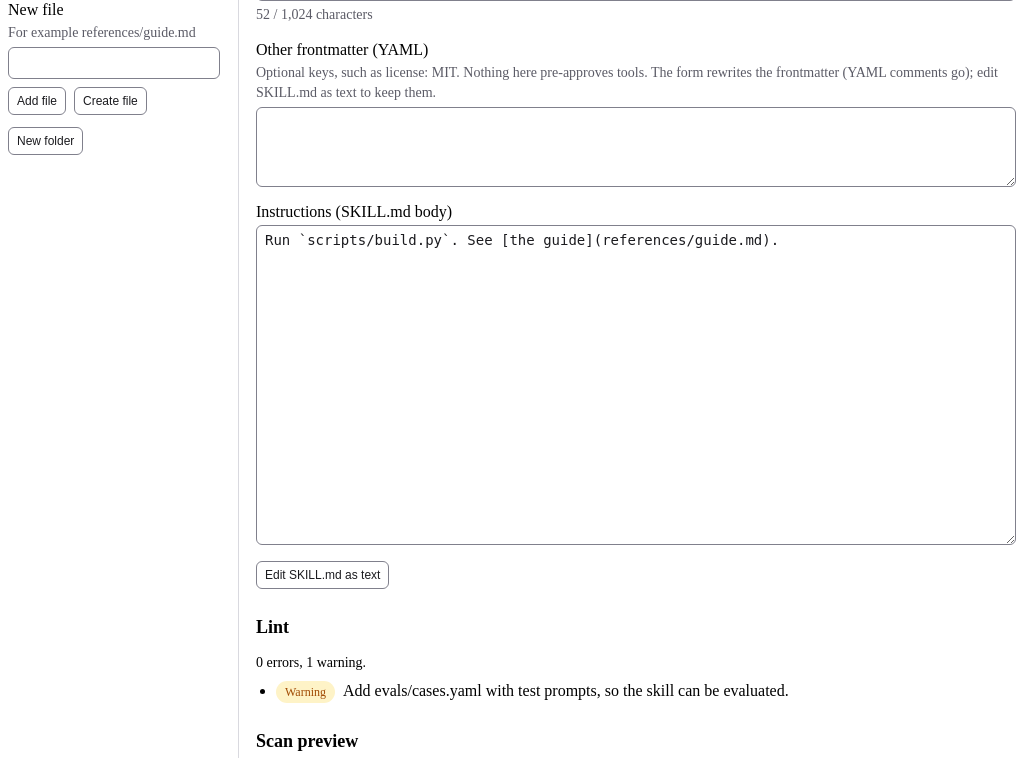
Workbench editor: lint, meter and live scan (ac-2) › stops autosave on a stale revision and says who changed the draft
(page scrolled)
Step 1. Replace the text in the text box labelled "Instructions (SKILL.md body)" with "Mine." → (636, 384), box [256,224,1016,544]
(page scrolled)
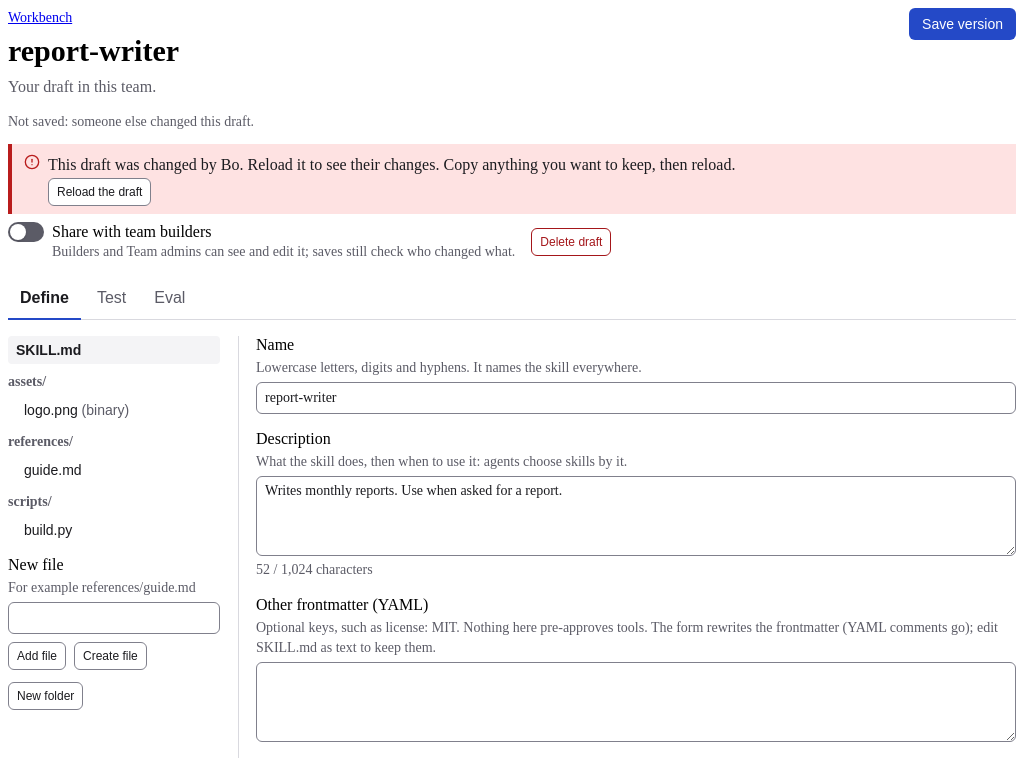
Result: the text "changed by Bo" is shown at [48,156,440,172]
Result: the text "Not saved: someone else changed this draft." is shown at [8,114,254,128]
Result: the button "Reload the draft" is shown at [48,178,151,206]
